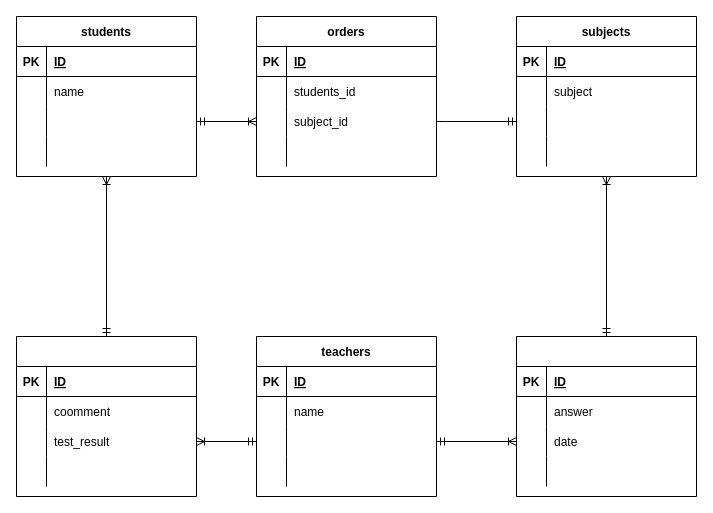
Image size: 713x513. Some labels were removed from this diagram. The shapes that lost their labels are listed below. From the top down, each one's box as (x1, y1, x2, y2) in pixels, then its label:
(16, 336, 196, 496): results
(516, 336, 696, 496): exam
